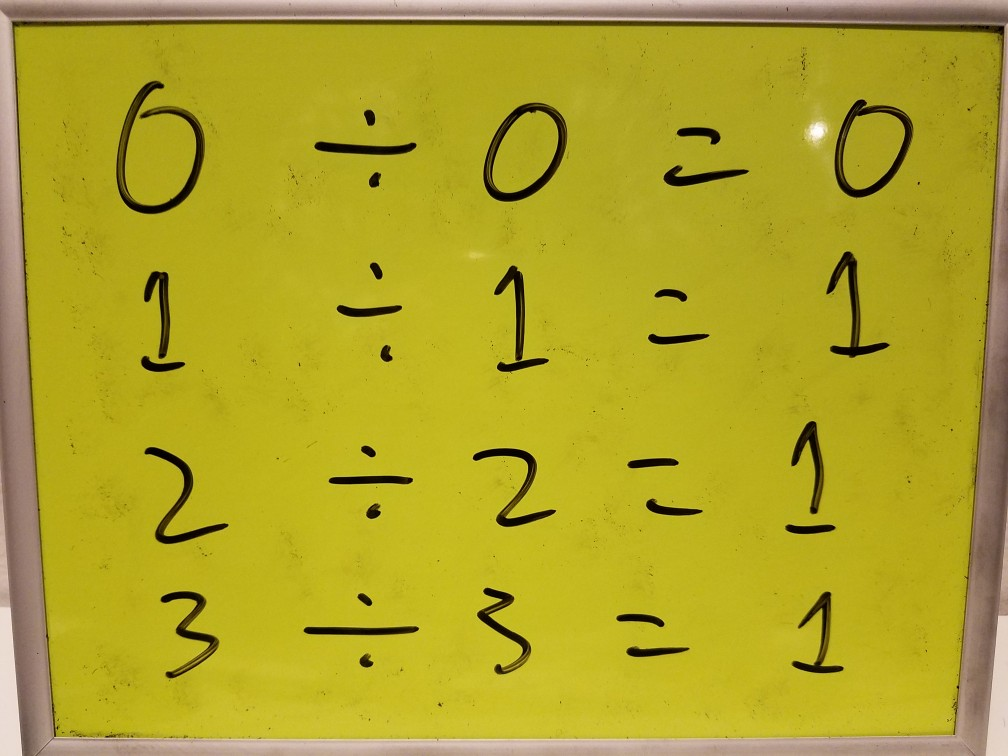0: (106, 74, 207, 220), (473, 95, 569, 206), (822, 91, 917, 201)
1: (804, 232, 904, 373), (775, 417, 848, 546), (483, 256, 556, 382), (781, 581, 860, 688), (132, 263, 195, 387)
2: (135, 442, 241, 556), (466, 438, 559, 538)
3: (468, 570, 544, 692), (152, 582, 224, 682)
=: (610, 438, 713, 527), (652, 116, 756, 193), (632, 277, 724, 363), (605, 593, 698, 674)
div: (301, 97, 426, 199), (294, 580, 427, 675), (327, 253, 413, 370), (318, 433, 420, 526)
